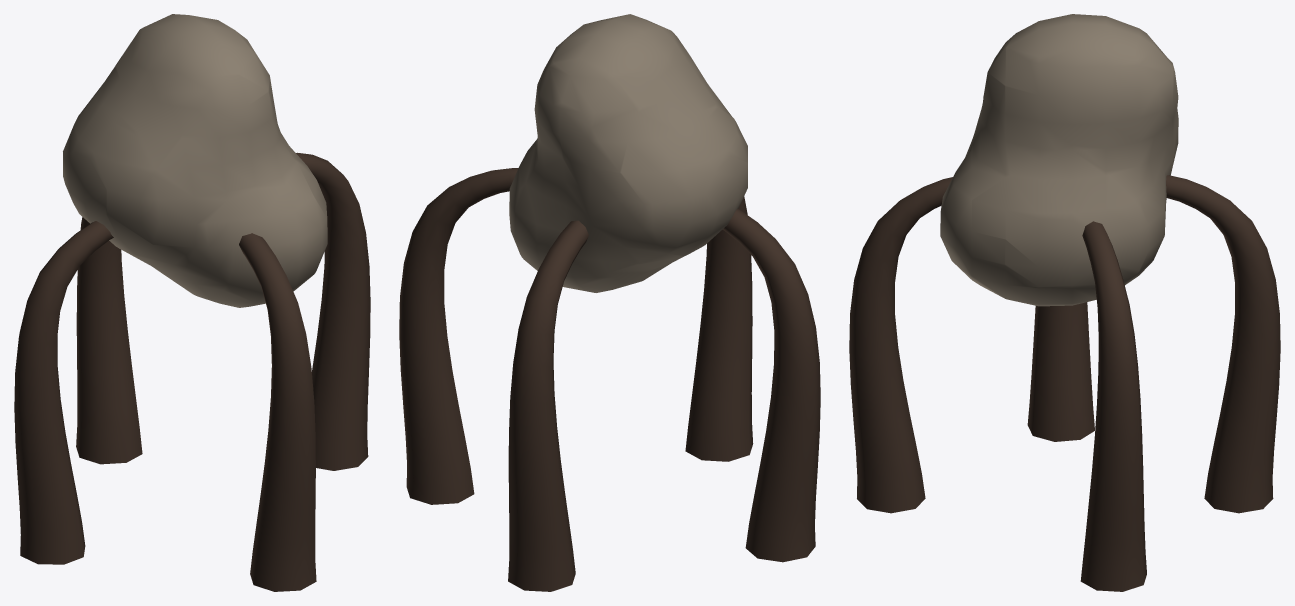
The model's file is quaternius-ultimate-space-tree-blob-3-transformed.glb.
3 renders of one model, left to right at view 1: azimuth 30°, elevation 25°; view 2: azimuth 150°, elevation 25°; view 3: azimuth 270°, elevation 25°, orthographic. The views are drawn at different scales.
Visible parts, largest first — view 1: Tree_Blob_3; view 2: Tree_Blob_3; view 3: Tree_Blob_3.
Boxes of the visible parts, x1,y1,x2,y2 form: Tree_Blob_3: (14, 14, 370, 591); Tree_Blob_3: (399, 14, 820, 591); Tree_Blob_3: (849, 14, 1280, 591).
Size of the model in its own units: 2.8 by 3.42 by 2.77.
Materials: 1 (1 with a texture image).
